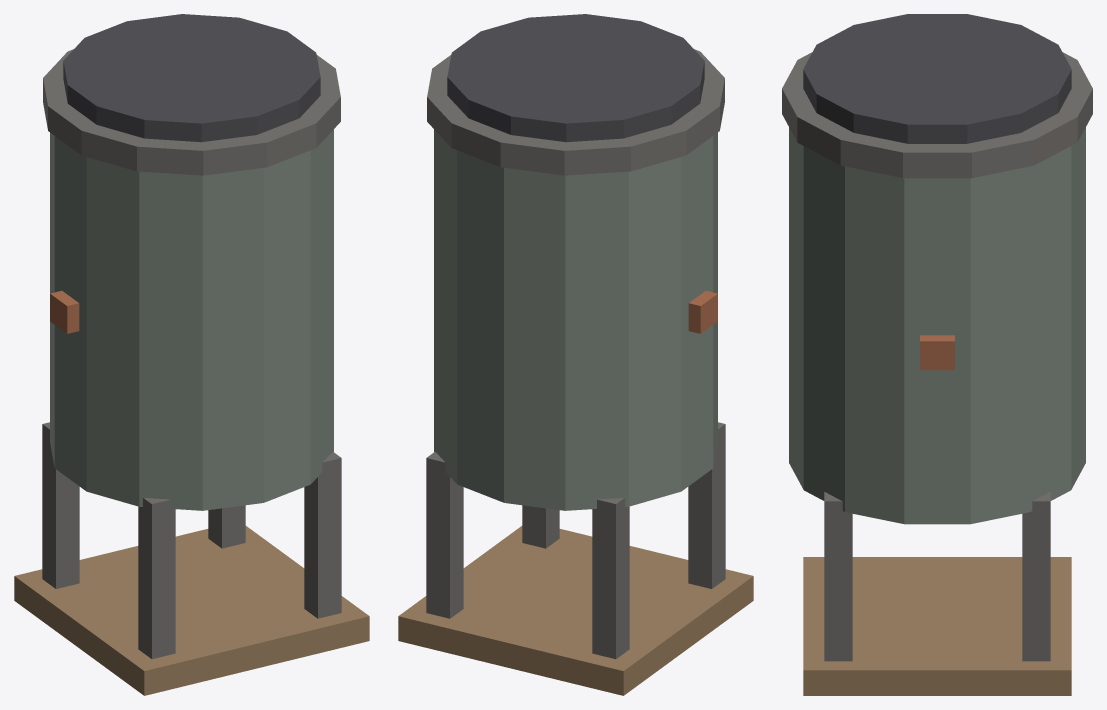
File: env_shanty_water_tank.glb
3 views of the same model, side by side, from view 1: azimuth 30°, elevation 25°; view 2: azimuth 150°, elevation 25°; view 3: azimuth 270°, elevation 25° (orthographic). The views are drawn at different scales.
Parts seen in each view (by area): view 1: env_shanty_water_tank; view 2: env_shanty_water_tank; view 3: env_shanty_water_tank.
Boxes of the visible parts, <box> form: env_shanty_water_tank: <box>14,14,369,695</box>; env_shanty_water_tank: <box>398,14,753,695</box>; env_shanty_water_tank: <box>782,14,1092,695</box>.
Size of the model in its own units: 0.9 by 1.78 by 0.88.
